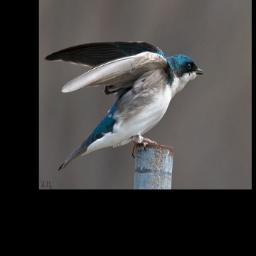Swallow: (43, 38, 205, 173)
